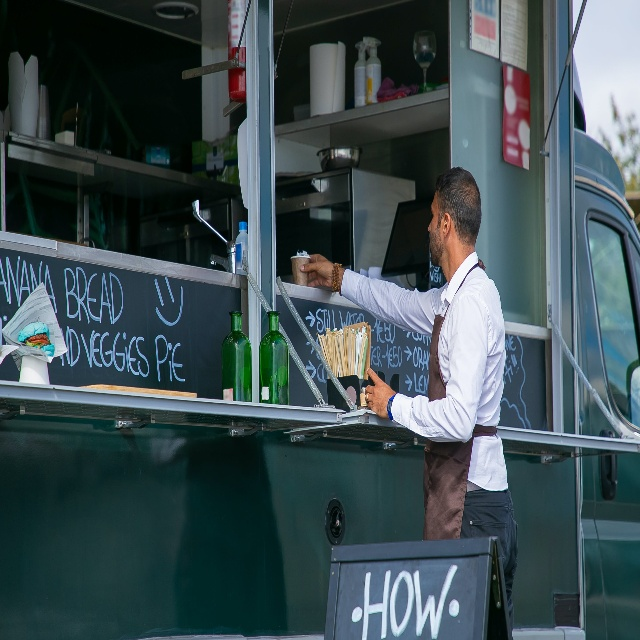Sin_guantes: (364, 367, 396, 419), (299, 253, 334, 289)
